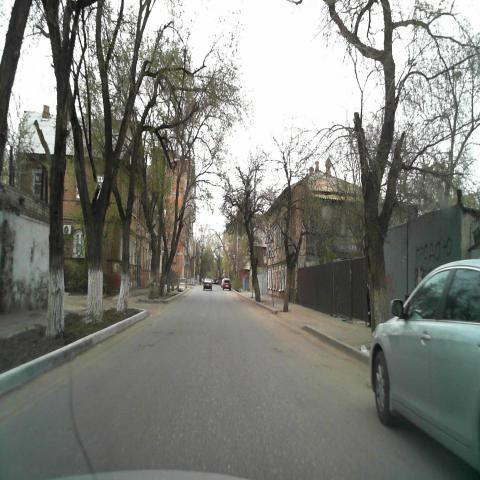1_20_3: (266, 244, 275, 258)
